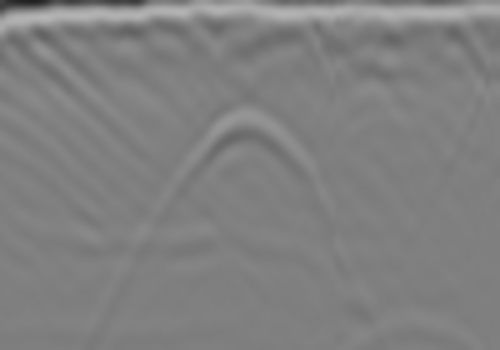hyperbola: (131, 105, 358, 316)
